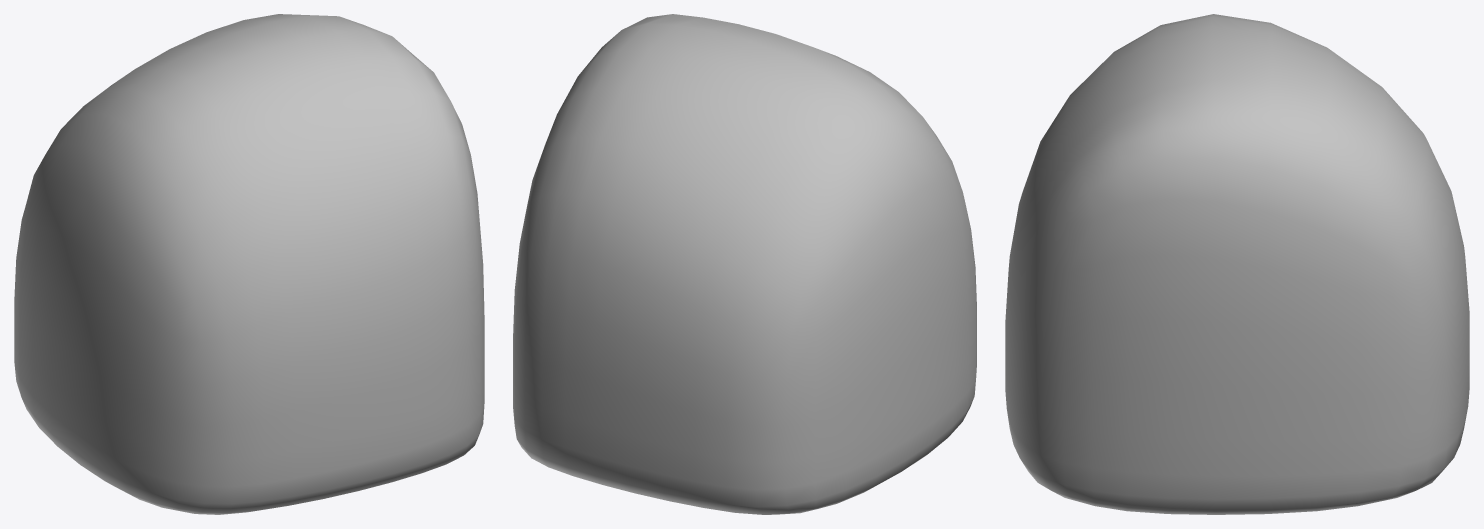
Rendered from Town_8_Stone_2.glb.
3 renders of one model, left to right at view 1: azimuth 30°, elevation 25°; view 2: azimuth 150°, elevation 25°; view 3: azimuth 270°, elevation 25°, orthographic. The views are drawn at different scales.
Parts seen in each view (by area): view 1: Town_8_Stone_2; view 2: Town_8_Stone_2; view 3: Town_8_Stone_2.
Boxes of the visible parts, x1,y1,x2,y2 form: Town_8_Stone_2: (14,14,484,514); Town_8_Stone_2: (513,14,976,514); Town_8_Stone_2: (1005,14,1469,514).
Size of the model in its own units: 1.25 by 1.27 by 1.33.
1 material, 1 textured.
